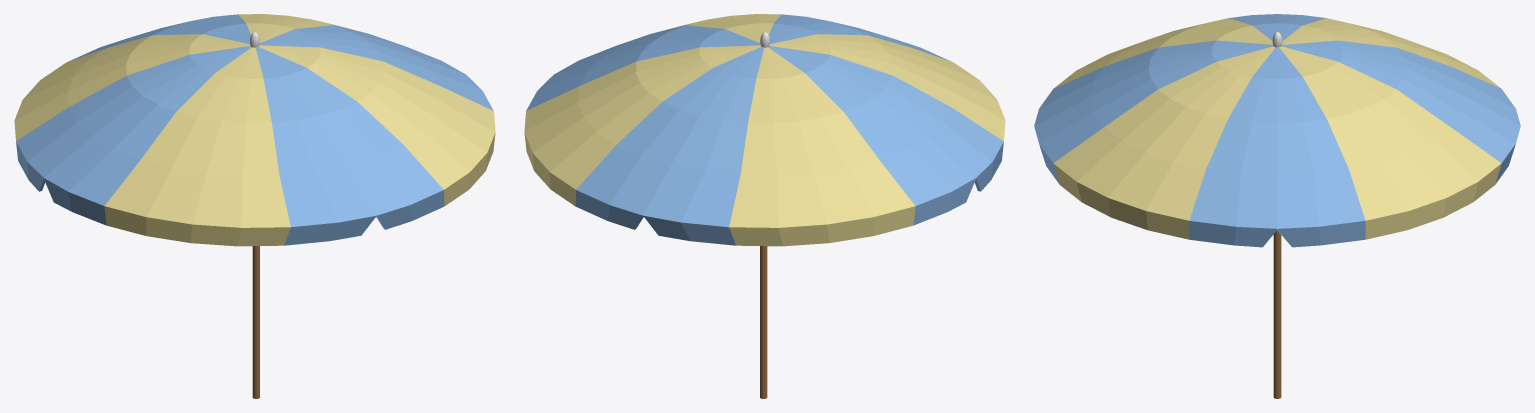
The model's file is Umbrella.fbx.
The picture shows the model from 3 angles, left to right: view 1: azimuth 30°, elevation 25°; view 2: azimuth 150°, elevation 25°; view 3: azimuth 270°, elevation 25°; orthographic projection.
Visible parts, largest first — view 1: Sphere, Cylinder; view 2: Sphere, Cylinder; view 3: Sphere, Cylinder.
Boxes of the visible parts, x1,y1,x2,y2 form: Sphere: (14, 14, 495, 246); Cylinder: (252, 246, 259, 398); Sphere: (524, 14, 1005, 246); Cylinder: (760, 246, 767, 398); Sphere: (1034, 14, 1520, 247); Cylinder: (1273, 231, 1281, 398).
Bounding box in the file's own units: 144 × 119 × 144.
